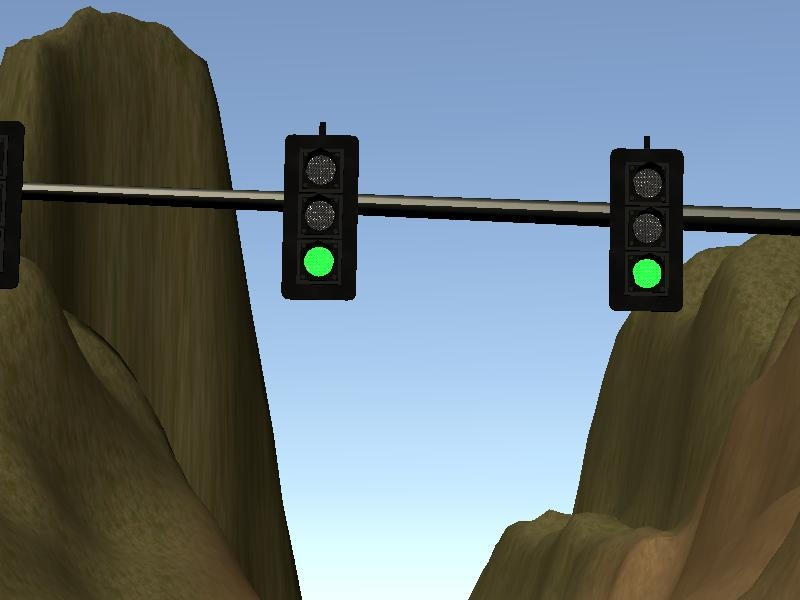GREEN: (609, 148, 685, 313), (282, 136, 358, 300)
